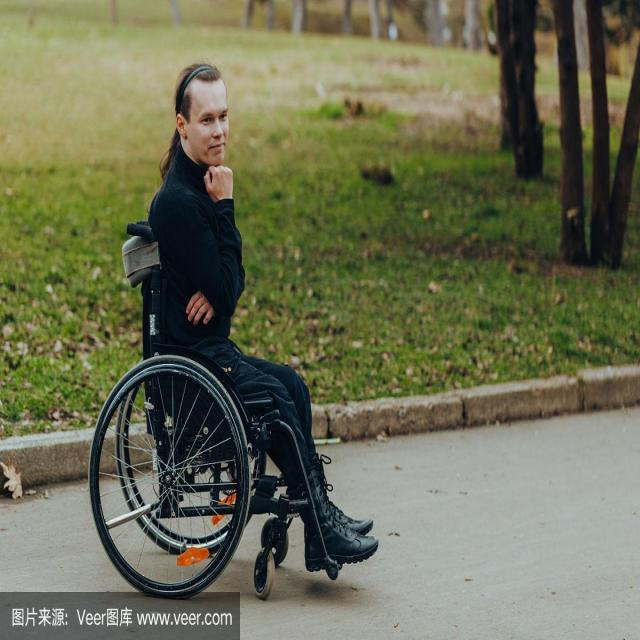wheelchairs: (76, 204, 352, 604)
